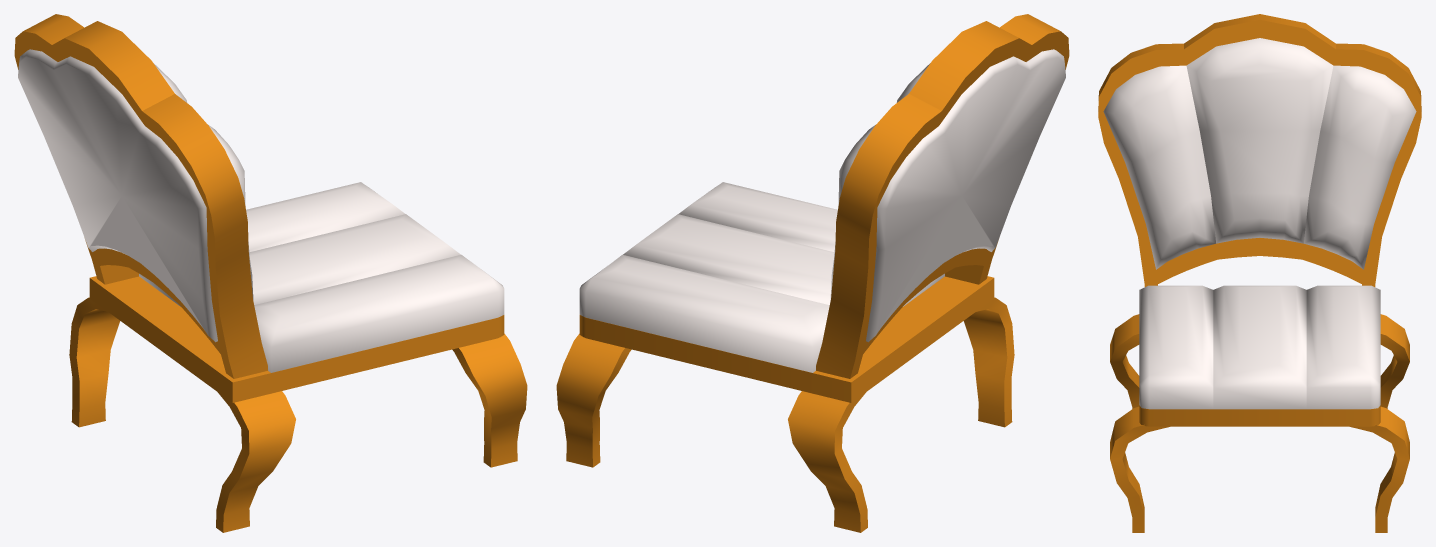
Rendered from ghe 01.FBX.
3 views of the same model, side by side, from view 1: azimuth 30°, elevation 25°; view 2: azimuth 150°, elevation 25°; view 3: azimuth 270°, elevation 25° (orthographic). The views are drawn at different scales.
Parts seen in each view (by area): view 1: Box1173; view 2: Box1173; view 3: Box1173.
Part boxes in pixels (<box>): Box1173: <box>14,14,527,532</box>; Box1173: <box>556,14,1069,532</box>; Box1173: <box>1098,14,1421,532</box>.
Size of the model in its own units: 1.7 by 2.08 by 1.6.
